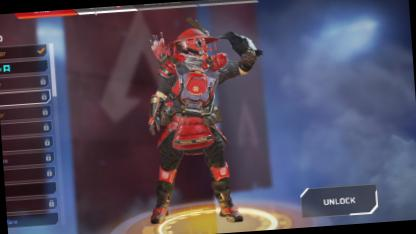Target: (144, 23, 232, 212)
